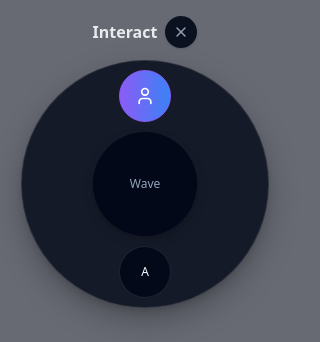
it: back returns to the parent ring, Escape closes
Later steps or results of the test are not shown.
Click the menu item named "Admin": click(145, 272) top-left (119, 246), bottom-right (171, 298)
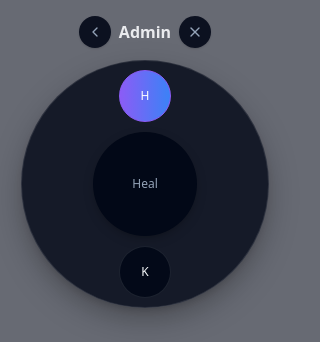
Click the button named "Back": click(95, 32) top-left (79, 16), bottom-right (111, 48)
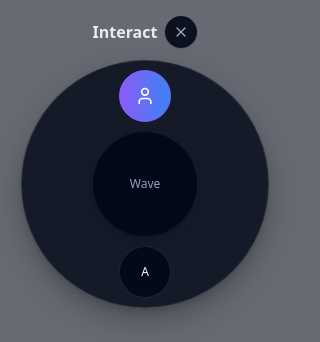
Expected: the menu item named "Wave" is shown, top-left (119, 70), bottom-right (171, 122)
